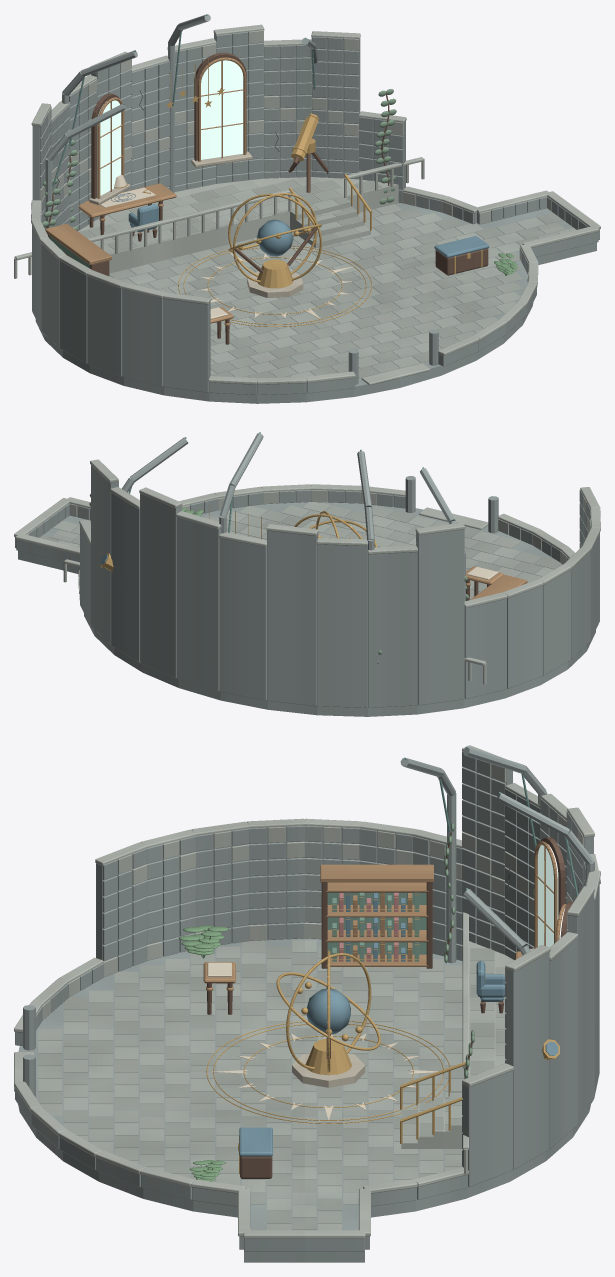
File: old-tower-interior.glb
3 renders of one model, top to bottom at view 1: azimuth 30°, elevation 25°; view 2: azimuth 150°, elevation 25°; view 3: azimuth 270°, elevation 25°, orthographic. The views are drawn at different scales.
Visible parts, largest first — view 1: Forest hamlet; view 2: Forest hamlet; view 3: Forest hamlet.
Part boxes in pixels (x1=…): Forest hamlet: x1=14, y1=14, x2=600, y2=403; Forest hamlet: x1=14, y1=432, x2=600, y2=716; Forest hamlet: x1=14, y1=745, x2=600, y2=1262.
Size of the model in its own units: 18.7 by 8.03 by 14.55.
18 materials, 18 textured.
